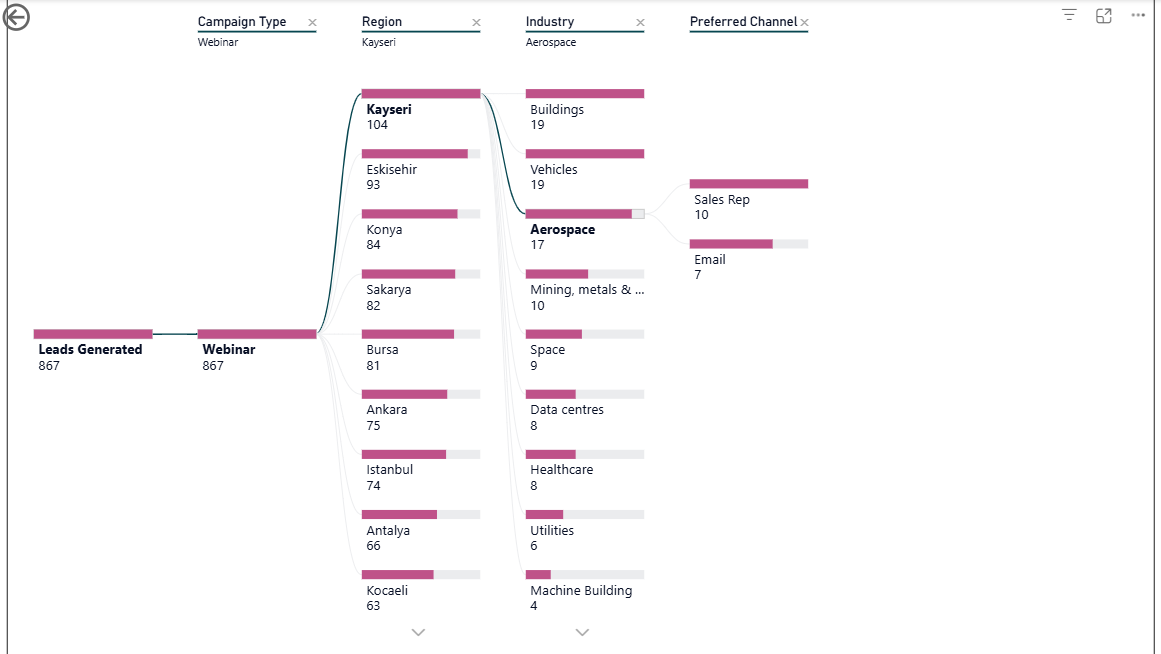

Layout of this report page (visuals, bound fields, positions):
{"tool":"powerbi","page":{"name":"Leads Generated by Campaign Type Decoposition Tree","canvas":[1280,720],"ordinal":3},"visuals":[{"type":"decompositionTreeVisual","fields":{"Analyze":["Employees.Leads Generated"],"ExplainBy":["Companies.Campaign Type","Companies.Region","Companies.Industry","Companies.Preferred Channel"]},"box":[9.6,0,1259.7,720.4],"z":0},{"type":"actionButton","box":[0,0,100,40],"z":1000}]}

Visuals, with their boxes on the page's 1280x720 design canvas (x1, y1, x2, y2). These are canvas units, not pixel positions in the 1161x654 screenshot, which may show the page scaled, cropped or inside an application window:
decompositionTreeVisual - Employees.Leads Generated x Companies.Campaign Type: left=10, top=0, right=1269, bottom=720
actionButton: left=0, top=0, right=100, bottom=40
